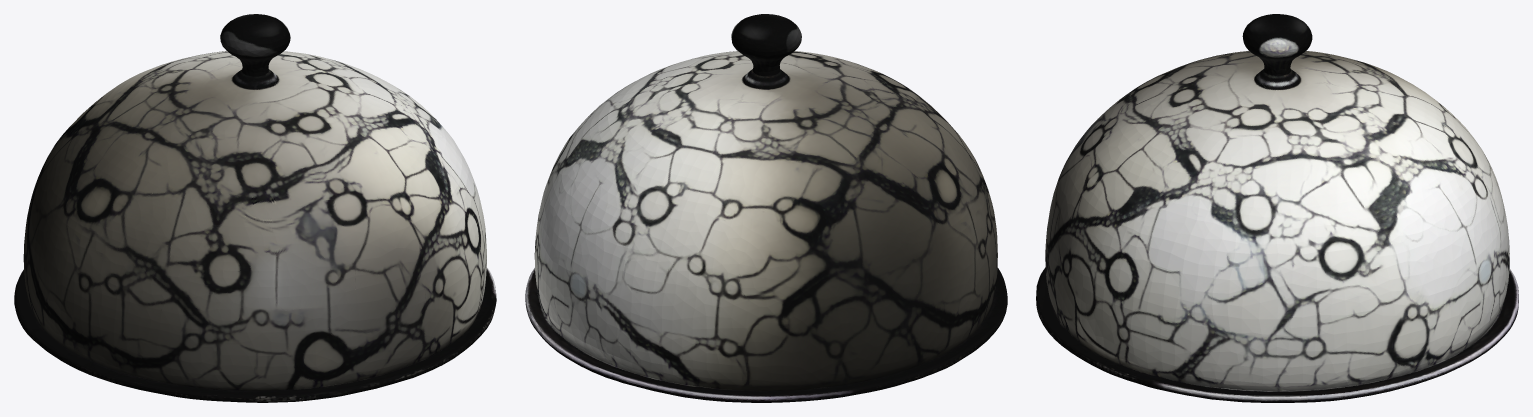
The model's file is porcelain-cheese-dome-futuristic.jpeg.glb.
3 views of the same model, side by side, from view 1: azimuth 30°, elevation 25°; view 2: azimuth 150°, elevation 25°; view 3: azimuth 270°, elevation 25° (orthographic).
Parts seen in each view (by area): view 1: world; view 2: world; view 3: world.
Boxes of the visible parts, x1,y1,x2,y2 form: world: (14,14,496,402); world: (525,14,1007,402); world: (1036,14,1518,402).
Bounding box in the file's own units: 1 × 0.6446 × 1.
Materials: 1 (1 with a texture image).
